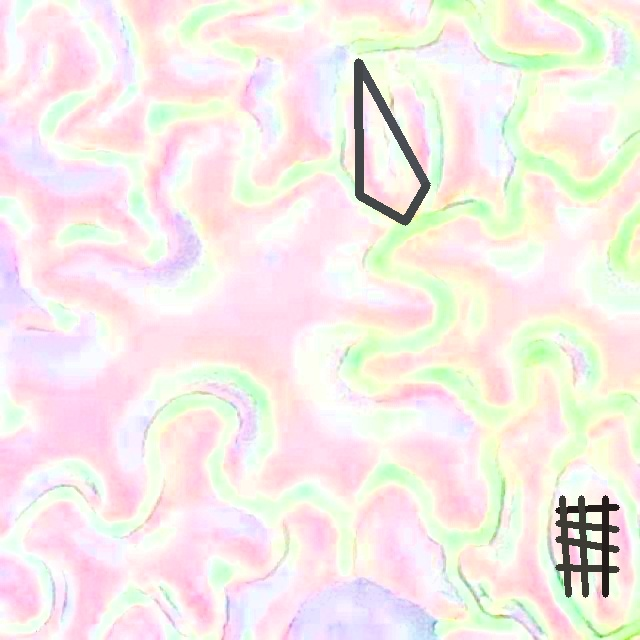close: (555, 495, 618, 597)
open: (355, 58, 430, 225)
